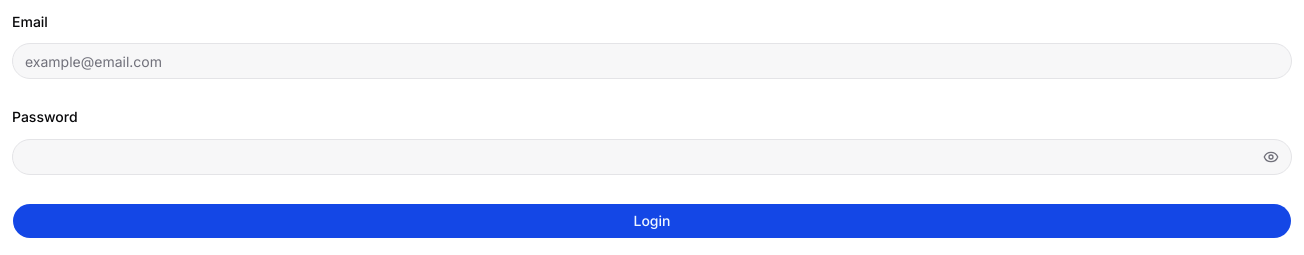
Test case: LoginForm › Render › should shows hide password button when password is showed
Click the button named "lihat password".
click(1271, 156)  # box [1259,144,1283,168]
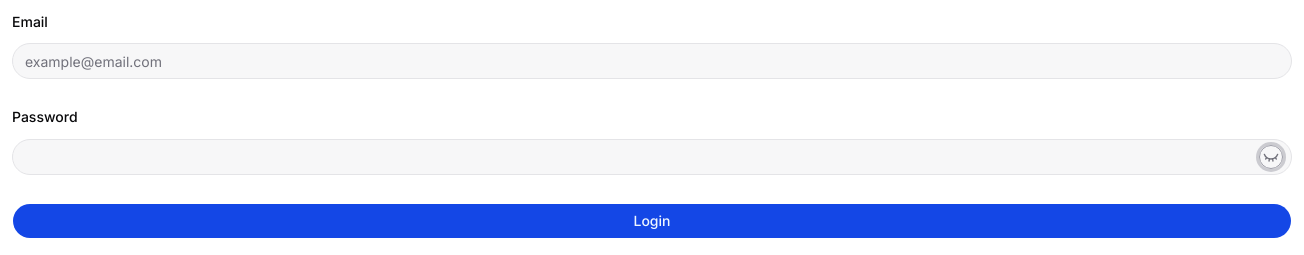
Now the button named "tutup password" is shown, box [1259,144,1283,168]
